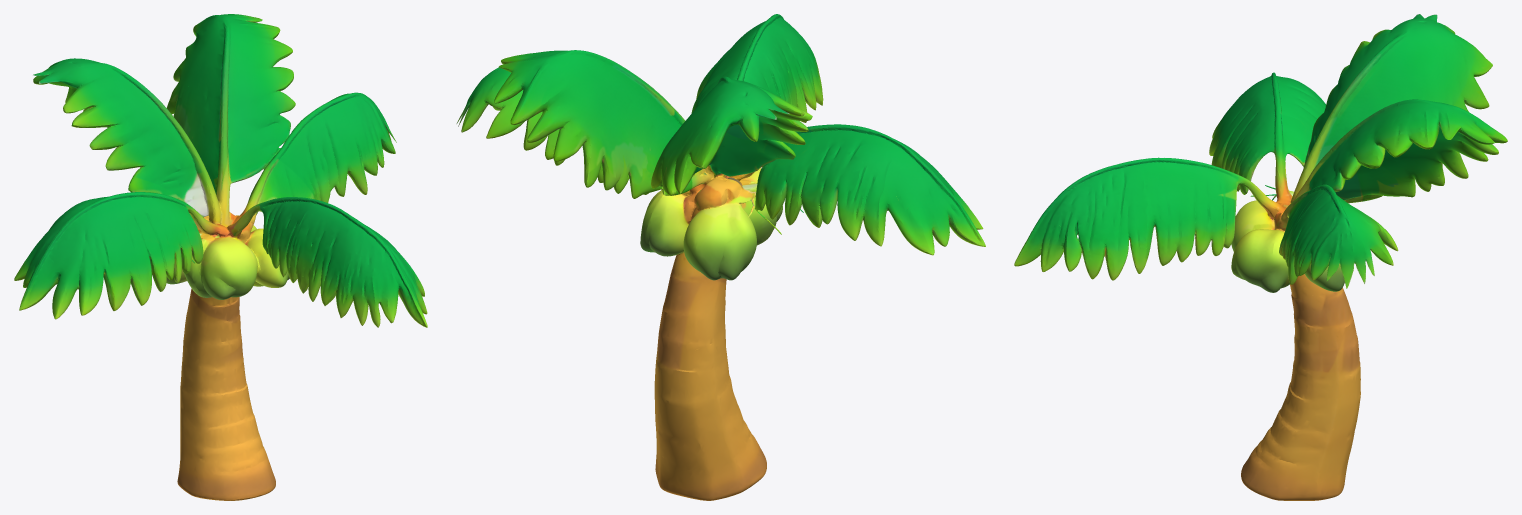
File: animal_crossing_coconut_palm_tree.glb
3 views of the same model, side by side, from view 1: azimuth 30°, elevation 25°; view 2: azimuth 150°, elevation 25°; view 3: azimuth 270°, elevation 25° (orthographic). The views are drawn at different scales.
Visible parts, largest first — view 1: Object_2, Object_3; view 2: Object_2, Object_3; view 3: Object_2, Object_3.
Boxes of the visible parts, bbox=[...] form: Object_2: bbox=[49, 14, 427, 500]; Object_3: bbox=[14, 15, 421, 499]; Object_2: bbox=[456, 14, 927, 500]; Object_3: bbox=[458, 16, 985, 499]; Object_2: bbox=[1014, 24, 1507, 500]; Object_3: bbox=[1069, 14, 1501, 350].
Size of the model in its own units: 1.9 by 1.79 by 1.9.
1 material, 1 textured.
